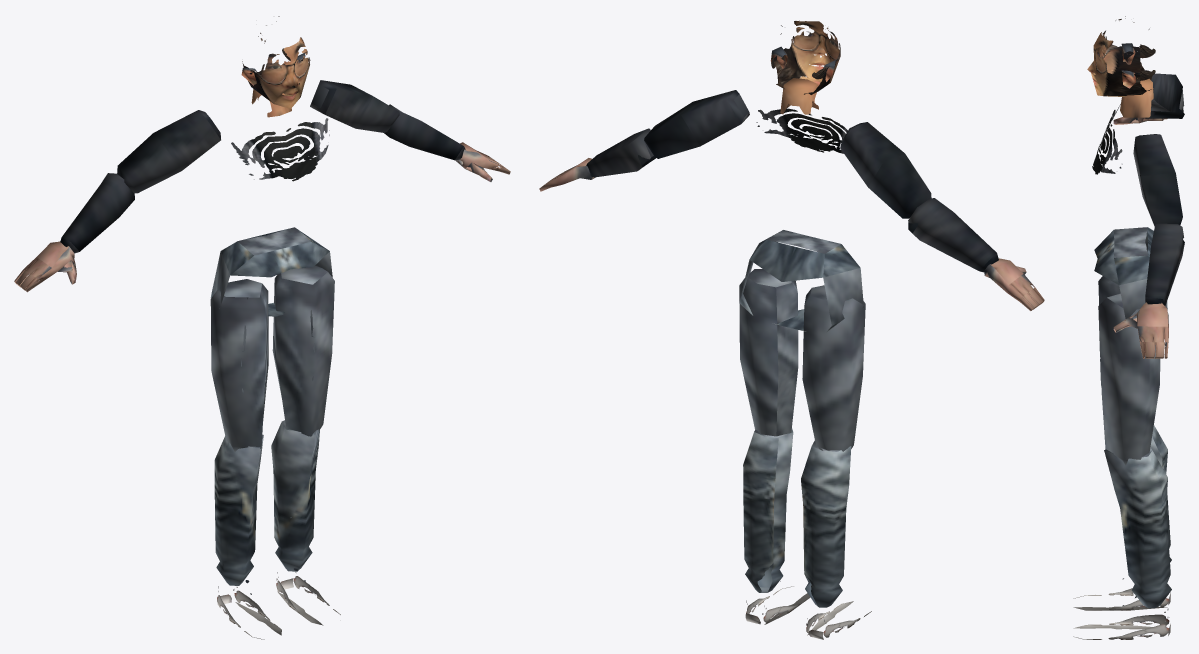
Rendered from khang.fbx.
3 views of the same model, side by side, from view 1: azimuth 30°, elevation 25°; view 2: azimuth 150°, elevation 25°; view 3: azimuth 270°, elevation 25° (orthographic).
Visible parts, largest first — view 1: Man_3; view 2: Man_3; view 3: Man_3.
Boxes of the visible parts, x1,y1,x2,y2 form: Man_3: [14, 16, 510, 639]; Man_3: [539, 20, 1044, 639]; Man_3: [1073, 16, 1184, 639].
Size of the model in its own units: 165 by 192 by 32.38.
1 material, 1 textured.
